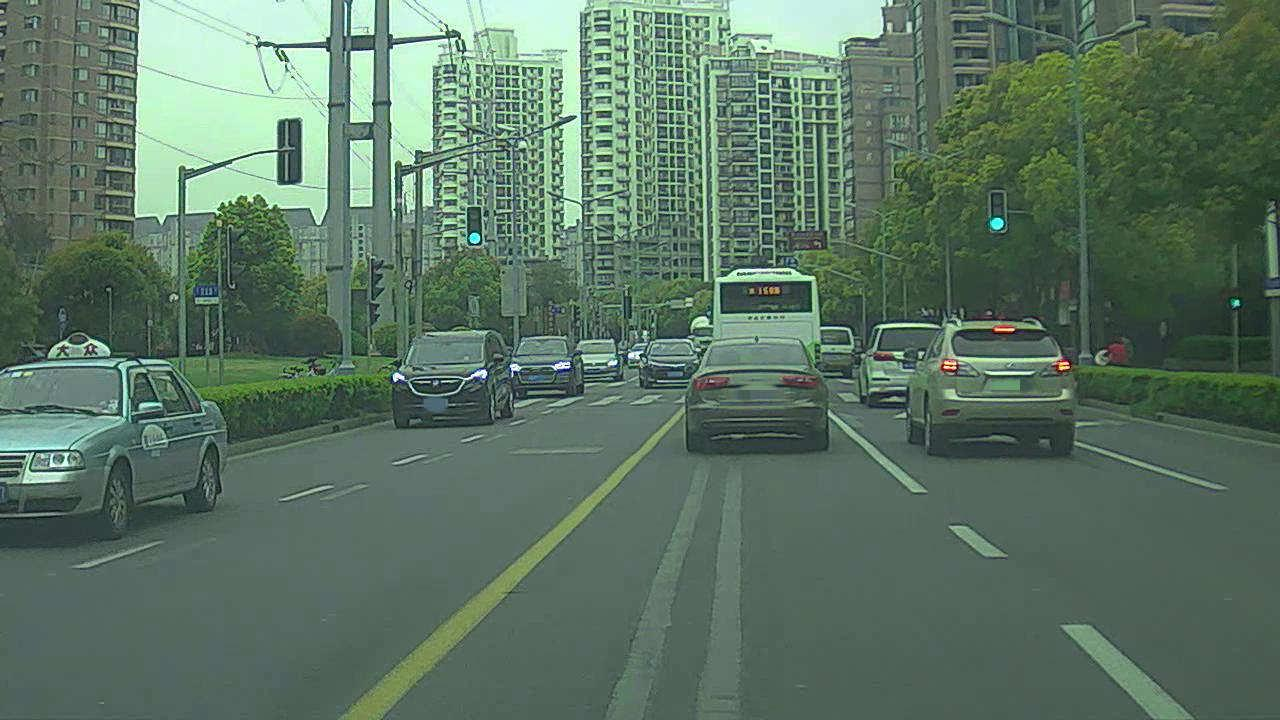traffic_light: (988, 191, 1009, 234), (465, 206, 486, 246)
